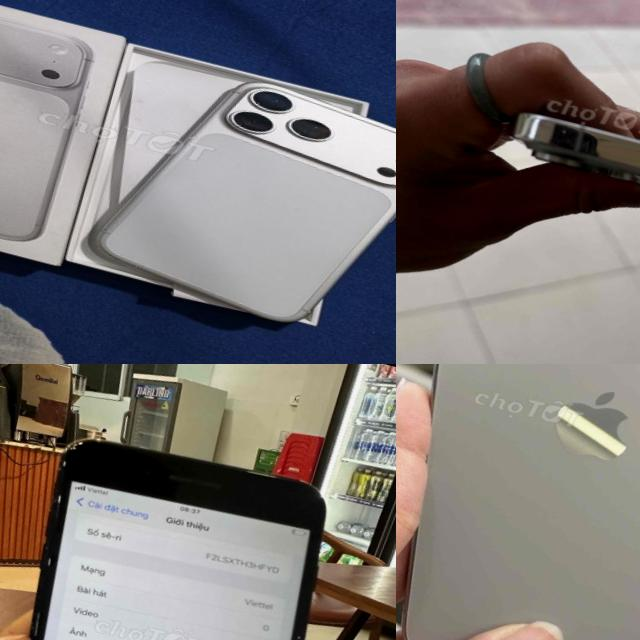gen_14: (488, 85, 640, 257)
gen_15: (396, 364, 640, 640)
gen_17: (80, 43, 396, 356)
gen_7_8: (30, 440, 325, 640)
